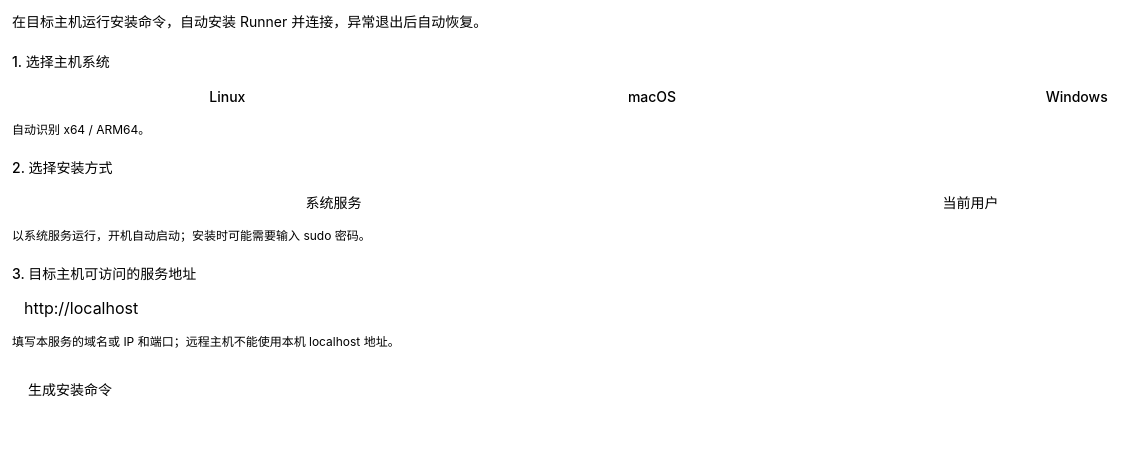
shows creation errors and lets the user retry
The image size is (1125, 454).
Click the button "生成安装命令" at coordinates (70, 390), box [12,372,128,408]
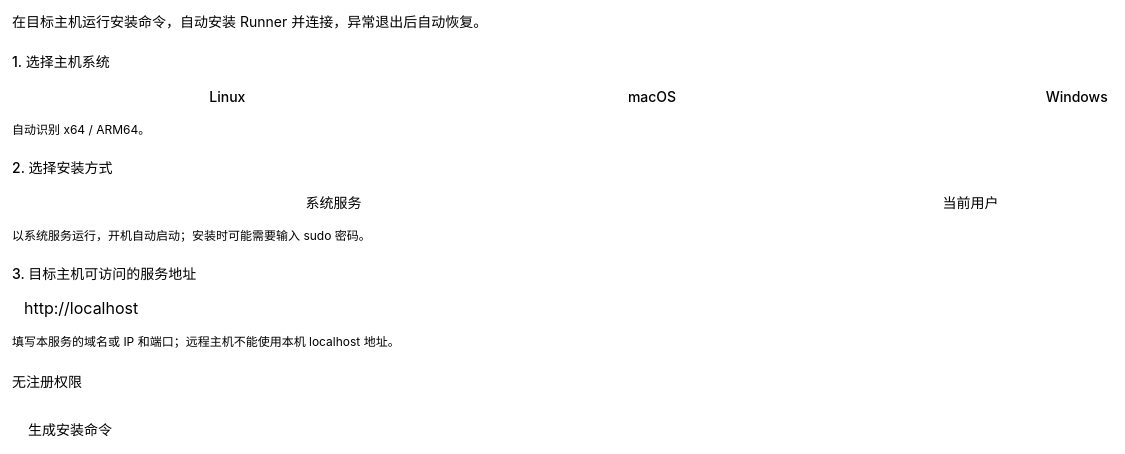
Expected: the tab "Linux" is enabled, [15,84,440,110]
Expected: the message "无注册权限" is shown, [12,372,82,390]
